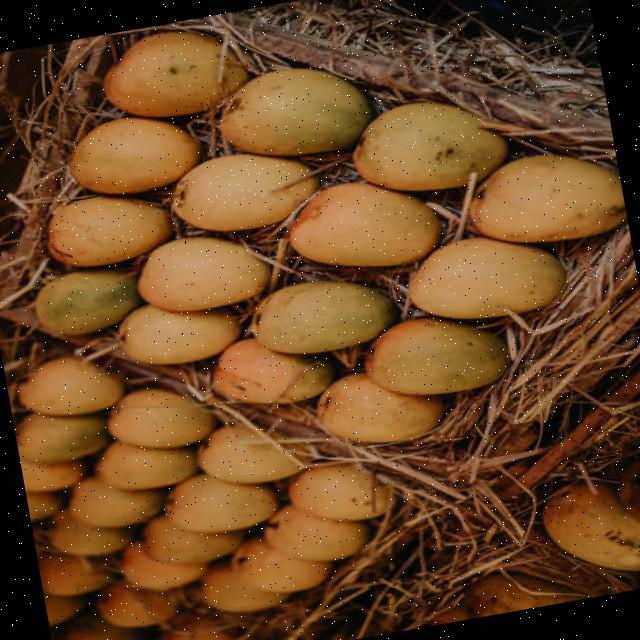mango: (352, 101, 506, 189), (470, 154, 625, 241), (219, 67, 372, 155), (408, 236, 563, 318), (288, 181, 439, 265), (102, 30, 247, 116), (171, 152, 317, 230), (365, 317, 510, 393), (251, 280, 396, 353), (68, 116, 199, 193), (137, 235, 268, 310), (316, 371, 443, 441), (541, 481, 640, 570), (49, 195, 169, 265), (212, 337, 335, 403), (118, 303, 239, 363), (35, 268, 139, 334), (165, 472, 278, 532), (107, 387, 215, 447), (18, 355, 123, 415), (263, 503, 368, 560), (198, 425, 299, 483), (288, 462, 385, 520), (231, 536, 331, 592), (142, 514, 244, 563), (96, 440, 197, 489), (71, 475, 163, 526), (16, 413, 108, 463), (203, 561, 287, 610), (123, 540, 206, 589), (48, 508, 135, 554), (21, 458, 84, 491)
